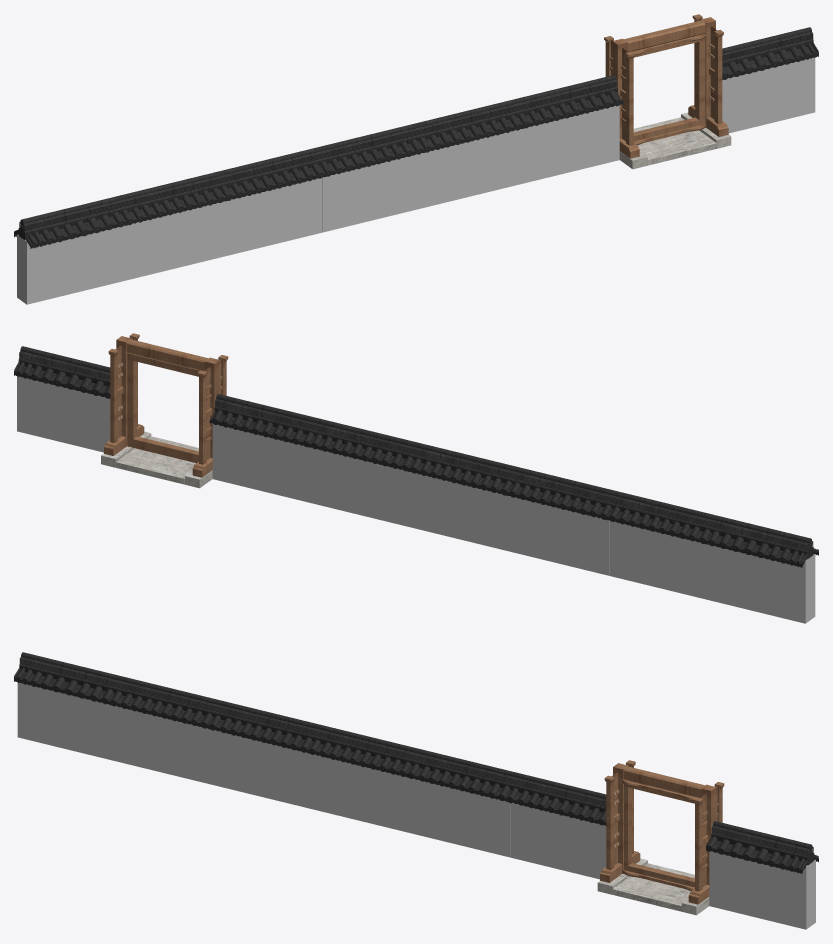
The model's file is SM_JSH_HG_StoneWallH_Splines_2.fbx.
3 views of the same model, one above another, from view 1: azimuth 30°, elevation 25°; view 2: azimuth 150°, elevation 25°; view 3: azimuth 330°, elevation 25° (orthographic).
Parts seen in each view (by area): view 1: SM_JSH_HG_StoneWallH_Splines_2; view 2: SM_JSH_HG_StoneWallH_Splines_2; view 3: SM_JSH_HG_StoneWallH_Splines_2.
Part boxes in pixels (x1,y1,x2,y2): SM_JSH_HG_StoneWallH_Splines_2: (14, 14, 818, 304); SM_JSH_HG_StoneWallH_Splines_2: (14, 333, 818, 623); SM_JSH_HG_StoneWallH_Splines_2: (14, 652, 818, 929).
Size of the model in its own units: 1806 by 141 by 248.
